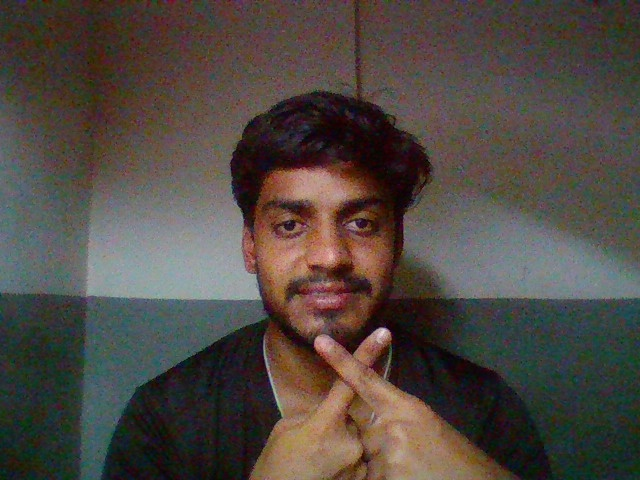X: (249, 311, 523, 480)
